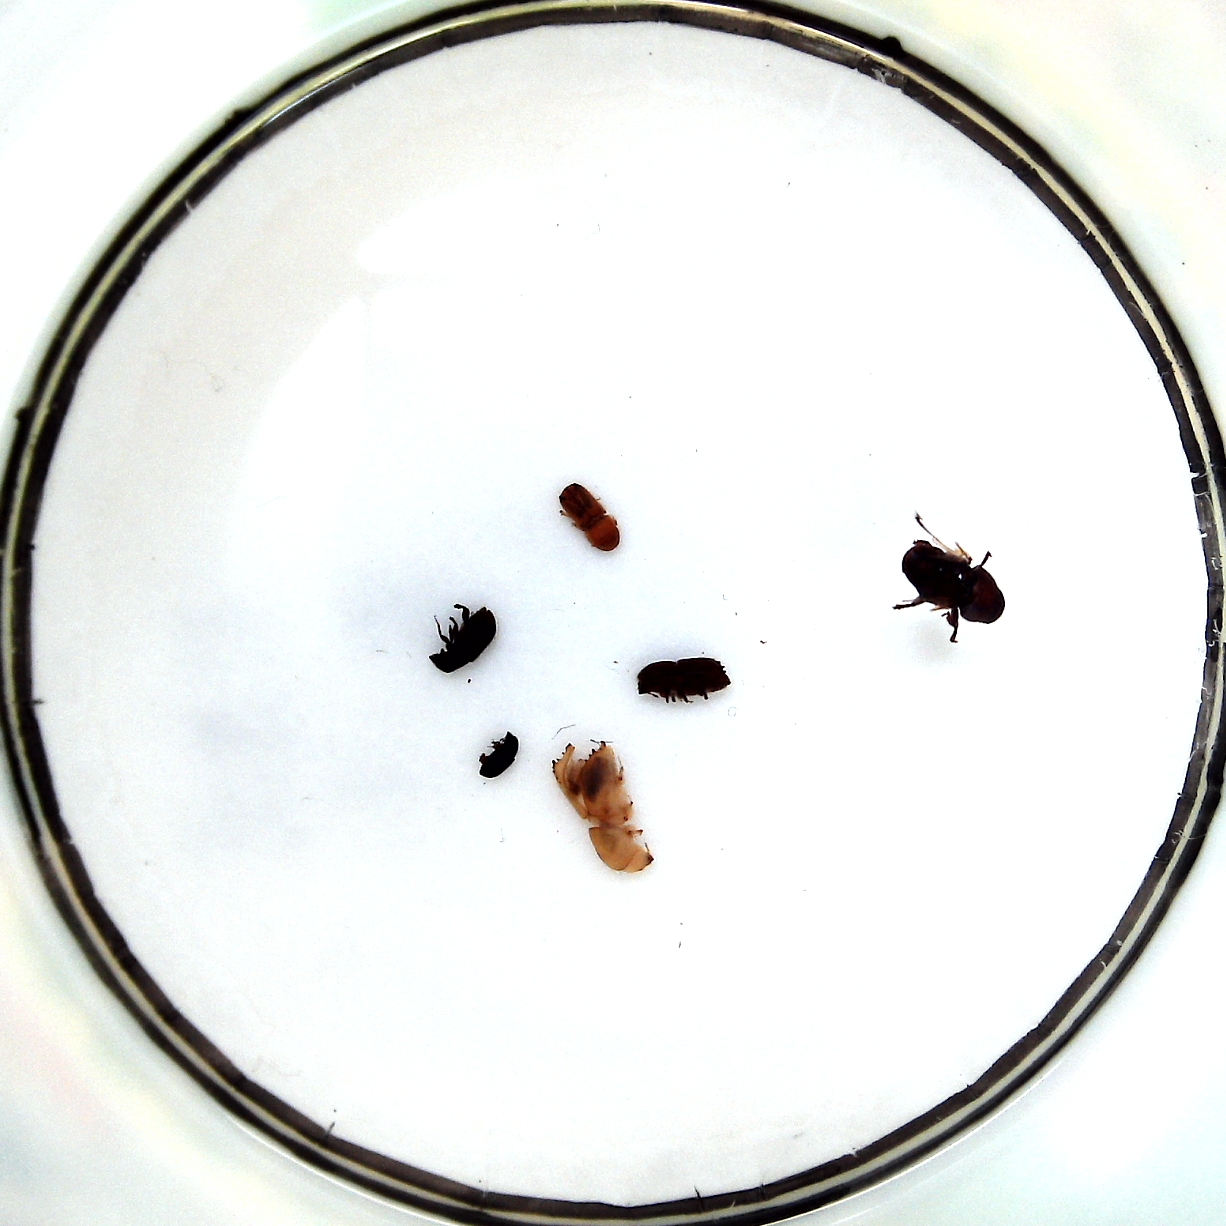Boerner: (549, 740, 655, 873)
Leconte: (902, 540, 1005, 625)
acuminatus: (478, 729, 519, 778)
armandi: (429, 606, 495, 673)
linnaeus: (558, 483, 620, 551), (635, 658, 732, 702)
